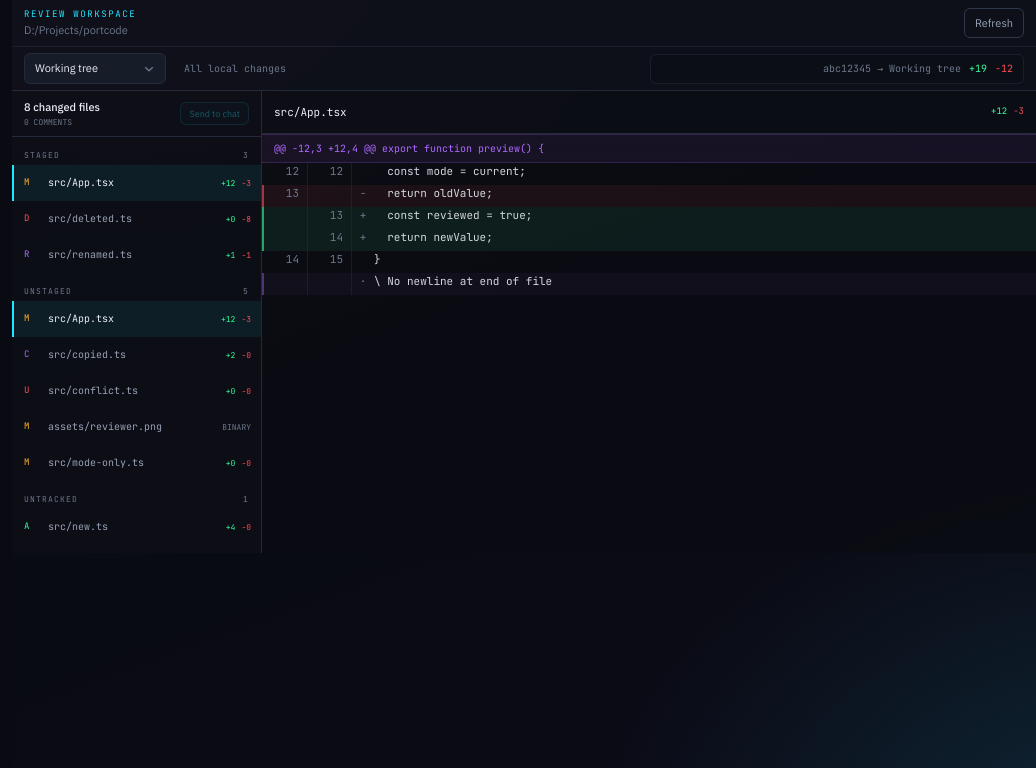
Test: ReviewWorkspace › reports a workspace branch-list failure without restoring free-form input
The width and height of the screenshot is (1036, 768).
Expected: the table named "src/App.tsx" is shown, x1=262 y1=134 x2=1035 y2=327
Click the dropdown named "Review scope": click(95, 69) x1=24 y1=53 x2=166 y2=84
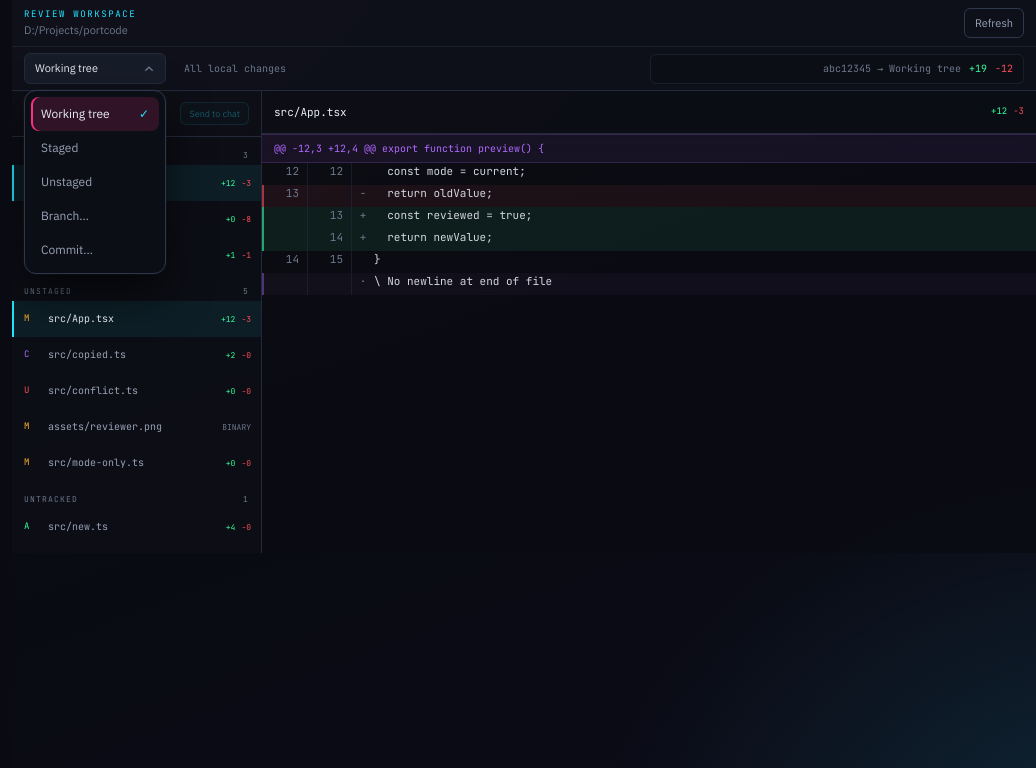
Click the option "Branch…": click(95, 216) x1=31 y1=199 x2=159 y2=233
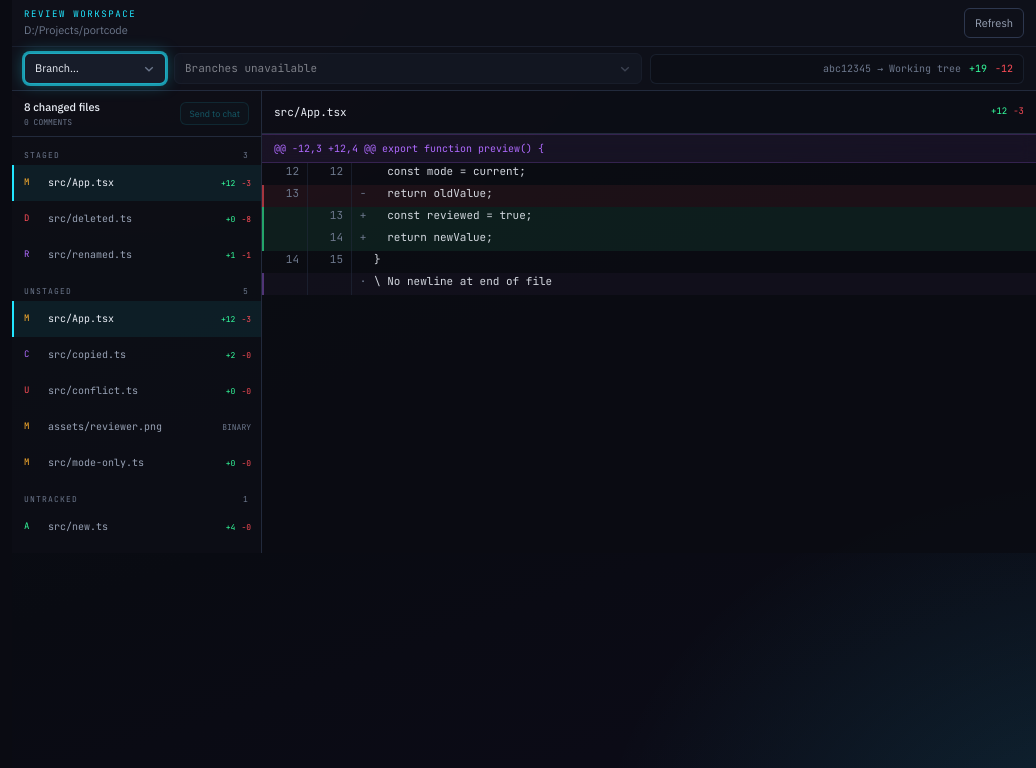
Expected: the dropdown named "Base branch" reads "Branches unavailable", x1=174 y1=53 x2=642 y2=84
